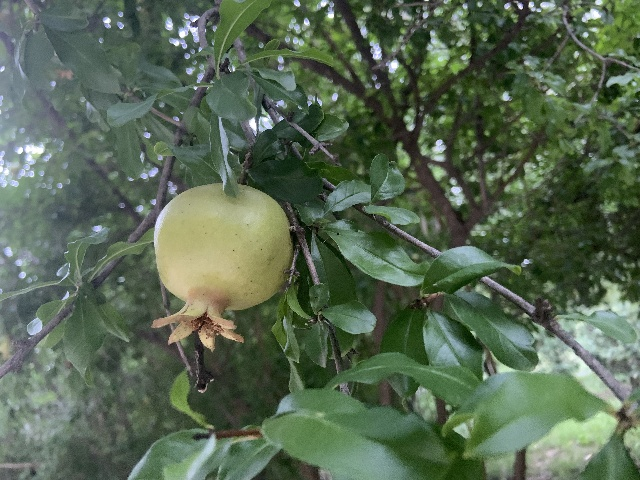mid-growth: (151, 181, 292, 351)
